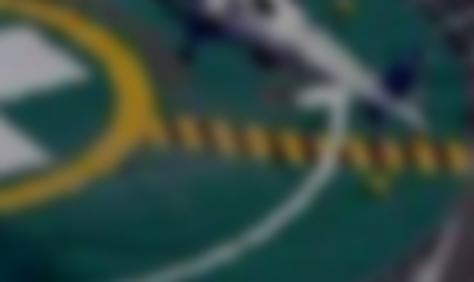Apron: (1, 1, 158, 219)
